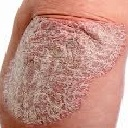Psoriasis: (7, 19, 124, 123)
